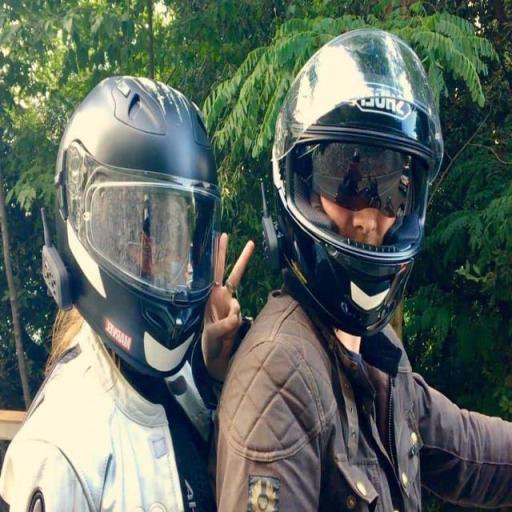Helmet: (273, 30, 443, 335), (56, 76, 219, 376)
